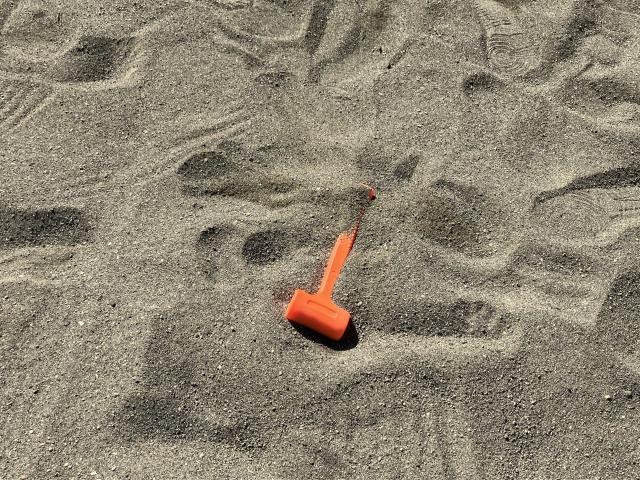hammer: (284, 180, 372, 340)
